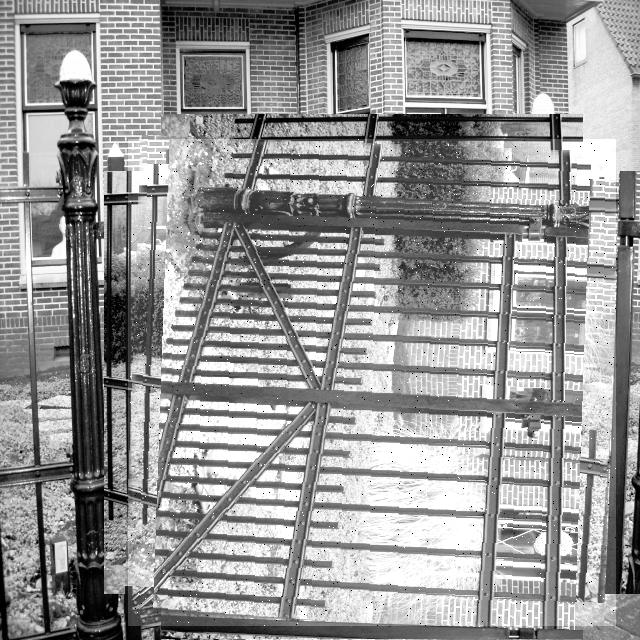fences: (128, 139, 616, 626)
